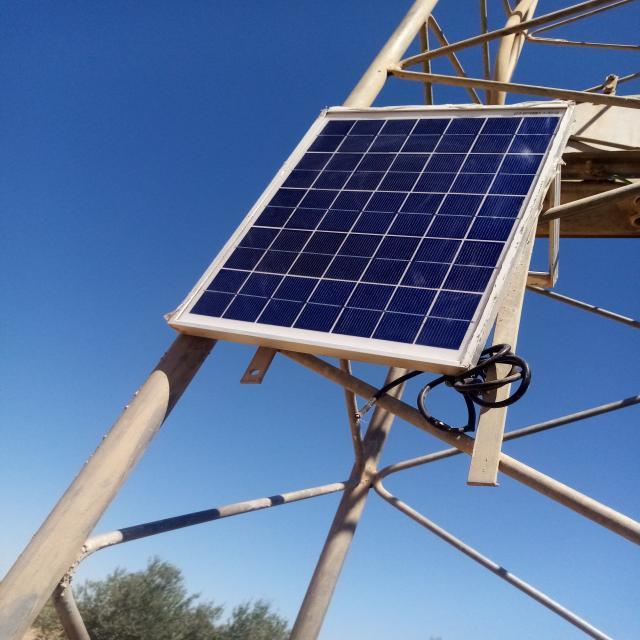no faulty: (170, 105, 571, 365)
